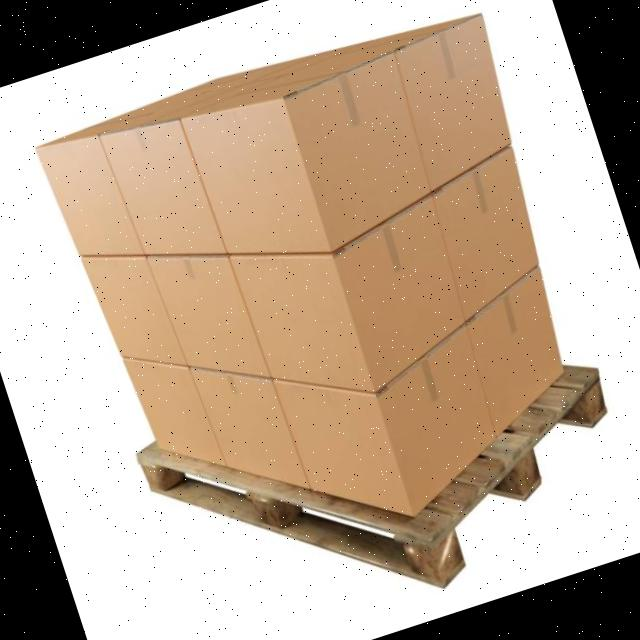Wooden-Pallets: (135, 365, 612, 595)
